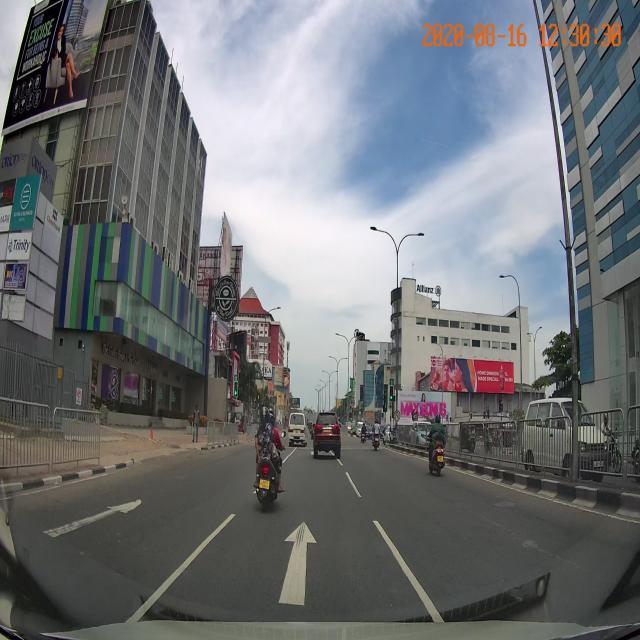forward: (119, 509, 451, 625)
